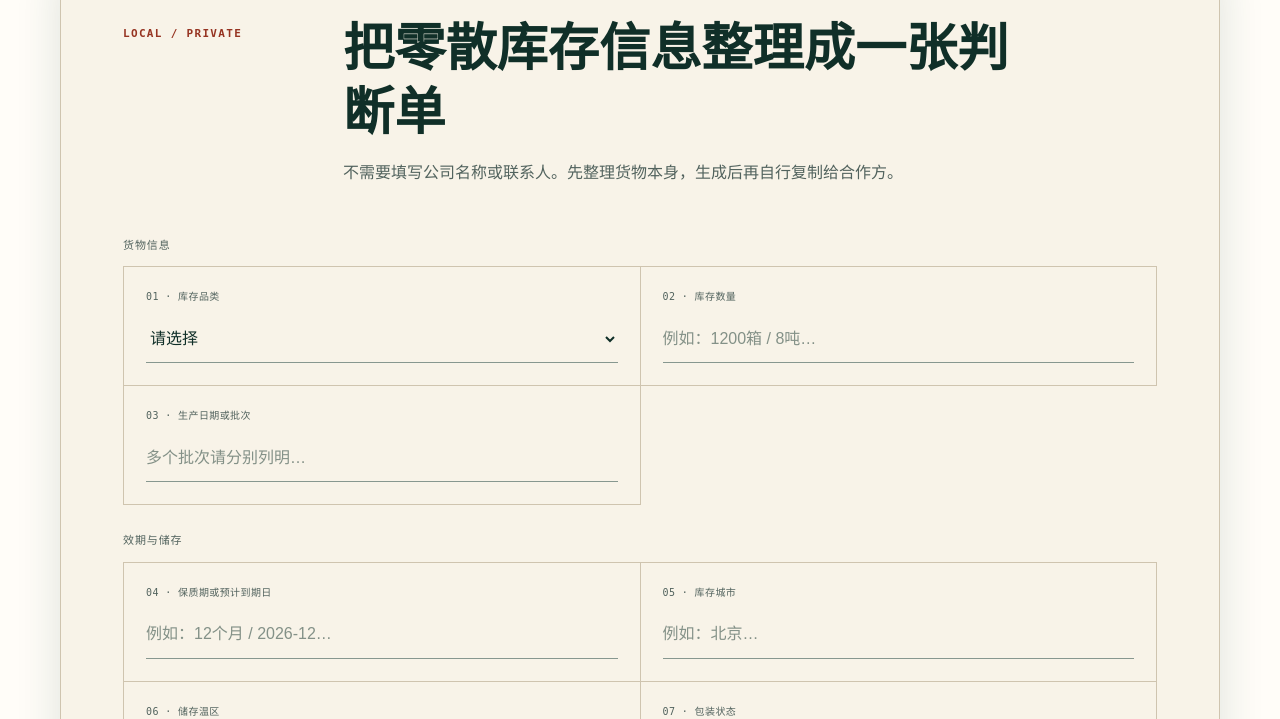
Test case: AssessmentForm › generates a copyable summary in the browser without claiming a quote
Select "冷冻食品与海鲜" in the dropdown labelled "库存品类" at (382,339), box 146,315 -> 618,363
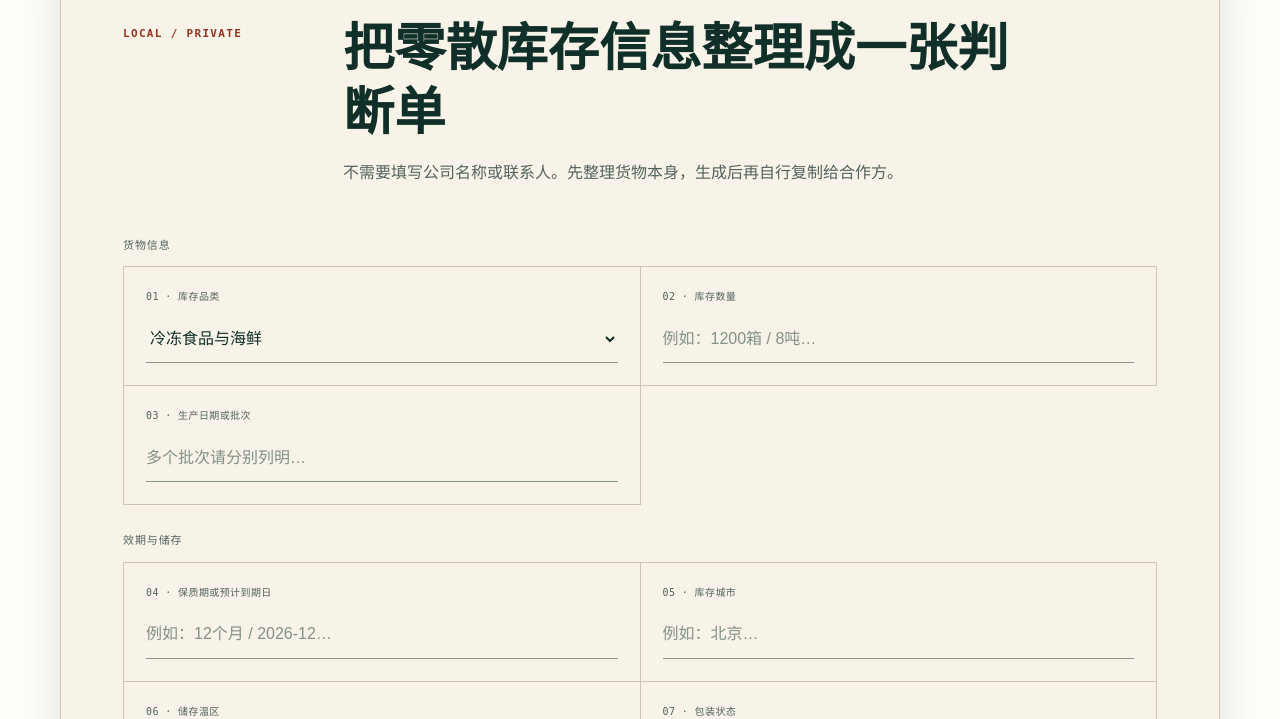
Type "1200箱" into the field labelled "库存数量".
click(898, 339); type("1200箱")  # box 662,315 -> 1134,363
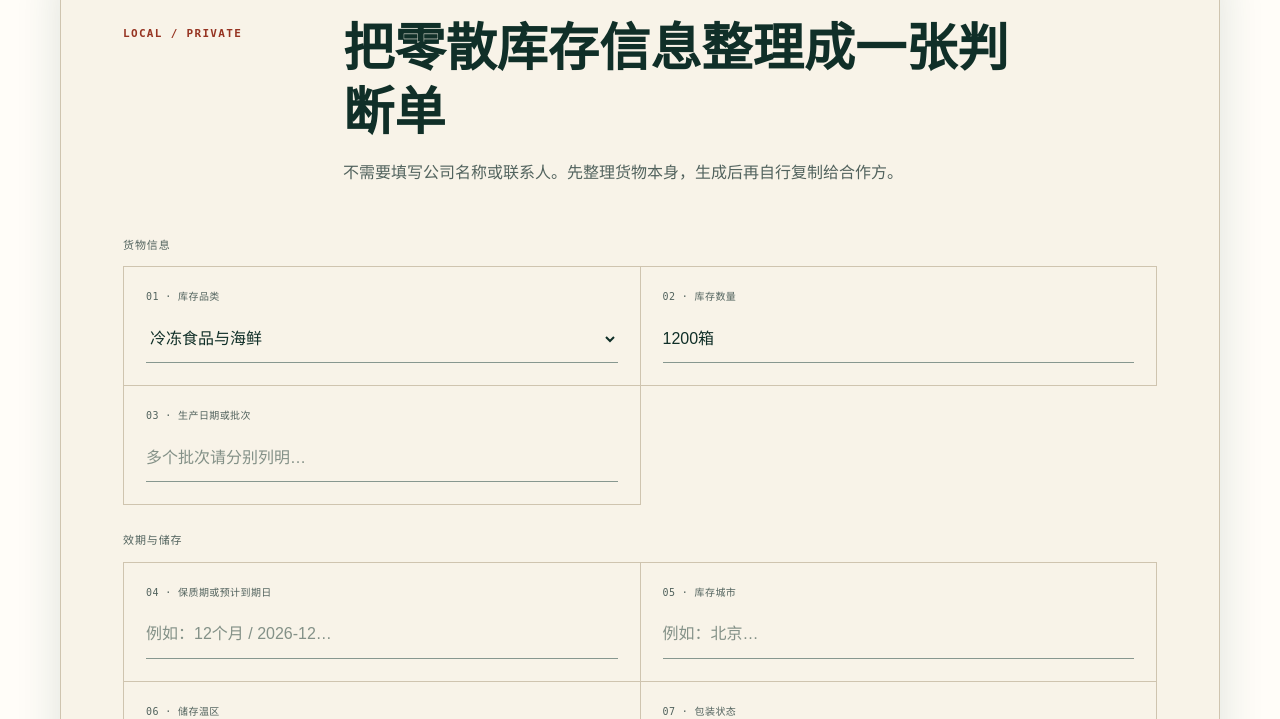
Type "北京" into the field labelled "库存城市".
click(898, 635); type("北京")  # box 662,611 -> 1134,659
(page scrolled)
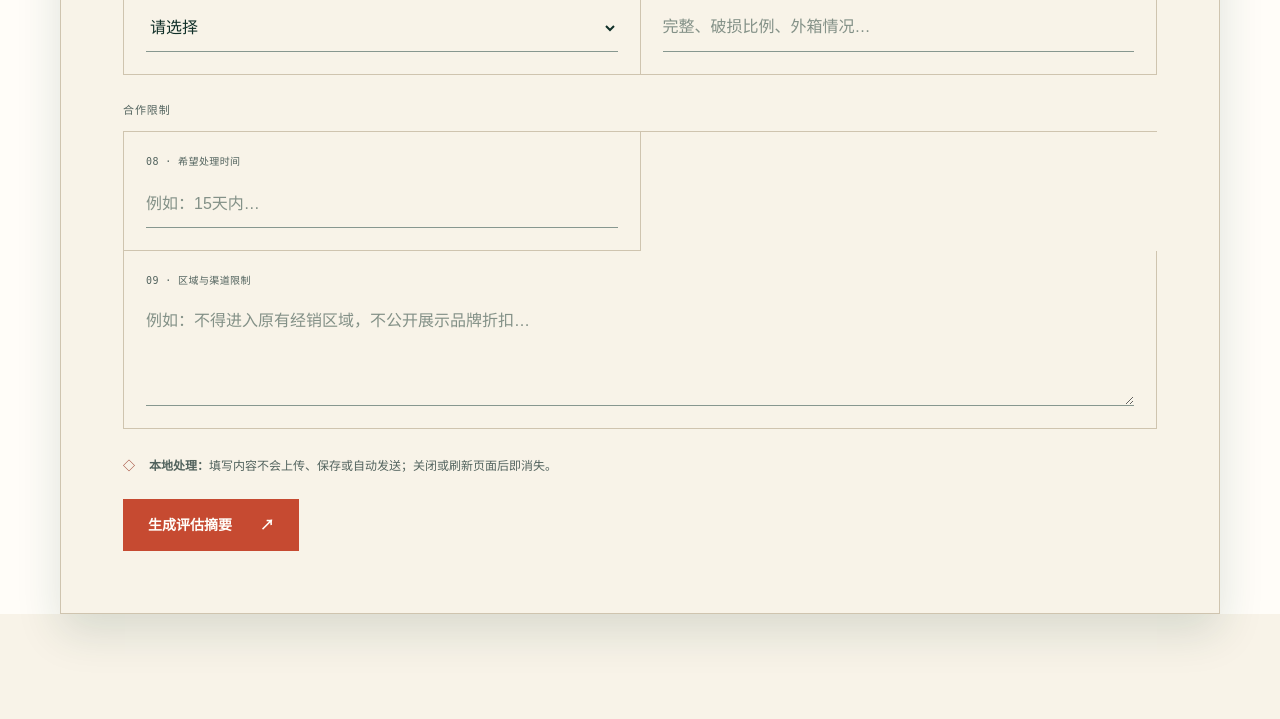
Click the button "生成评估摘要 ↗".
click(211, 525)  # box 123,499 -> 299,551
(page scrolled)
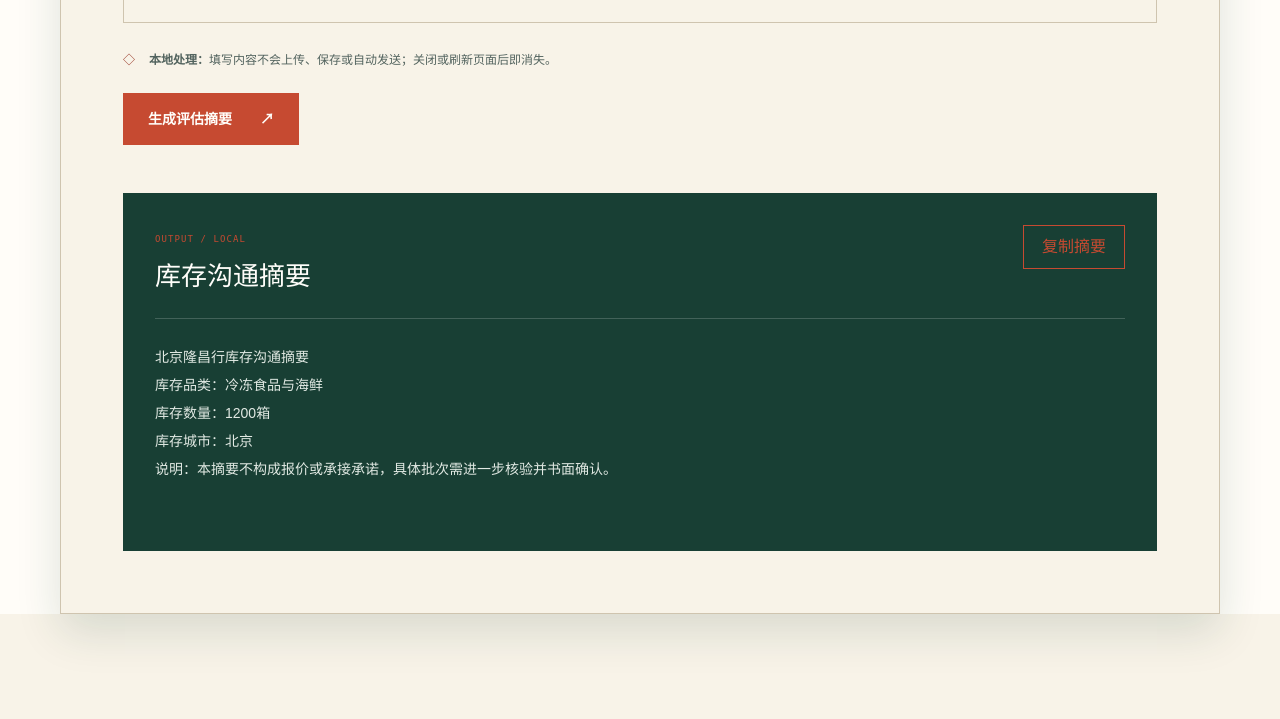
Expected: the text "本摘要不构成报价或承接承诺" is shown, 155,349 -> 617,477
